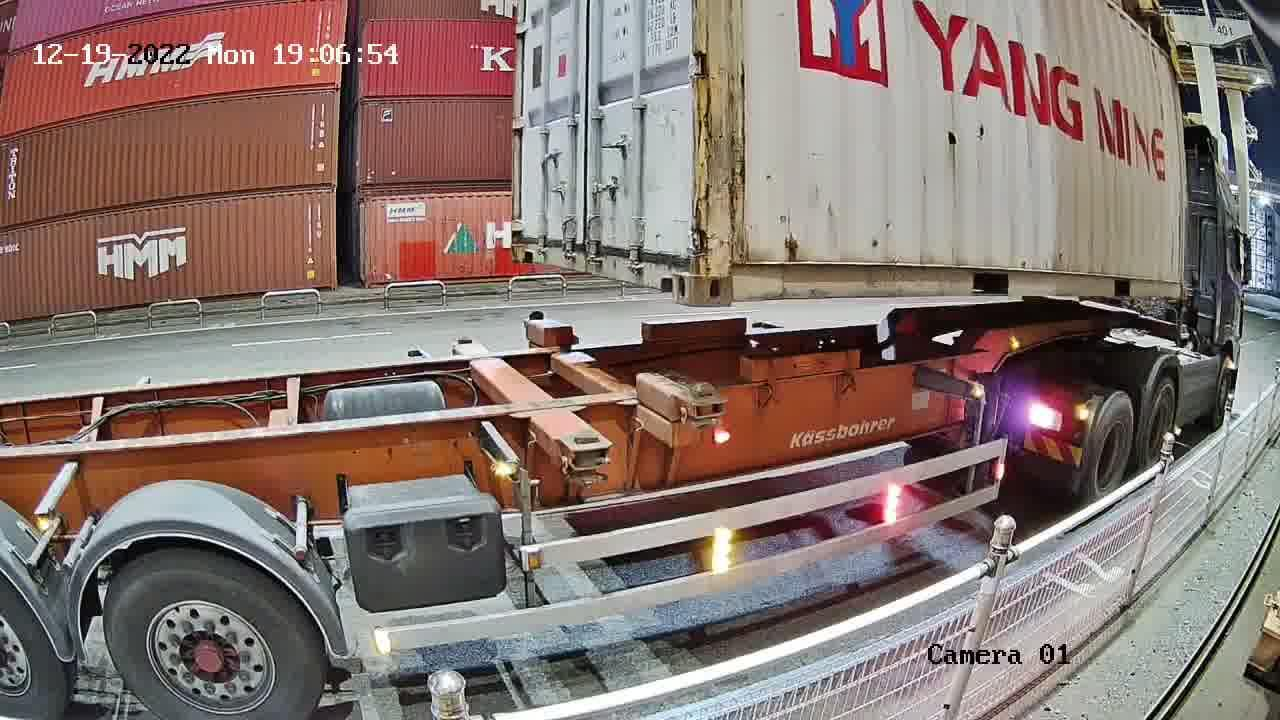Chassis: (526, 319, 698, 420)
Cone: (684, 383, 720, 430), (523, 306, 549, 323)
Hole_L: (695, 245, 766, 305), (512, 220, 544, 265)
Hole_R: (645, 238, 692, 307)
Tire: (1083, 394, 1135, 498), (1140, 380, 1177, 465)
